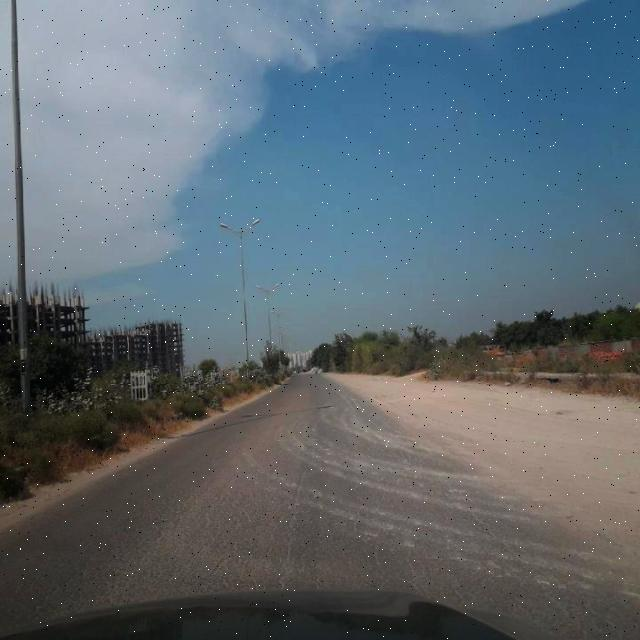D00: (273, 449, 314, 582)
D20: (27, 446, 527, 612)
